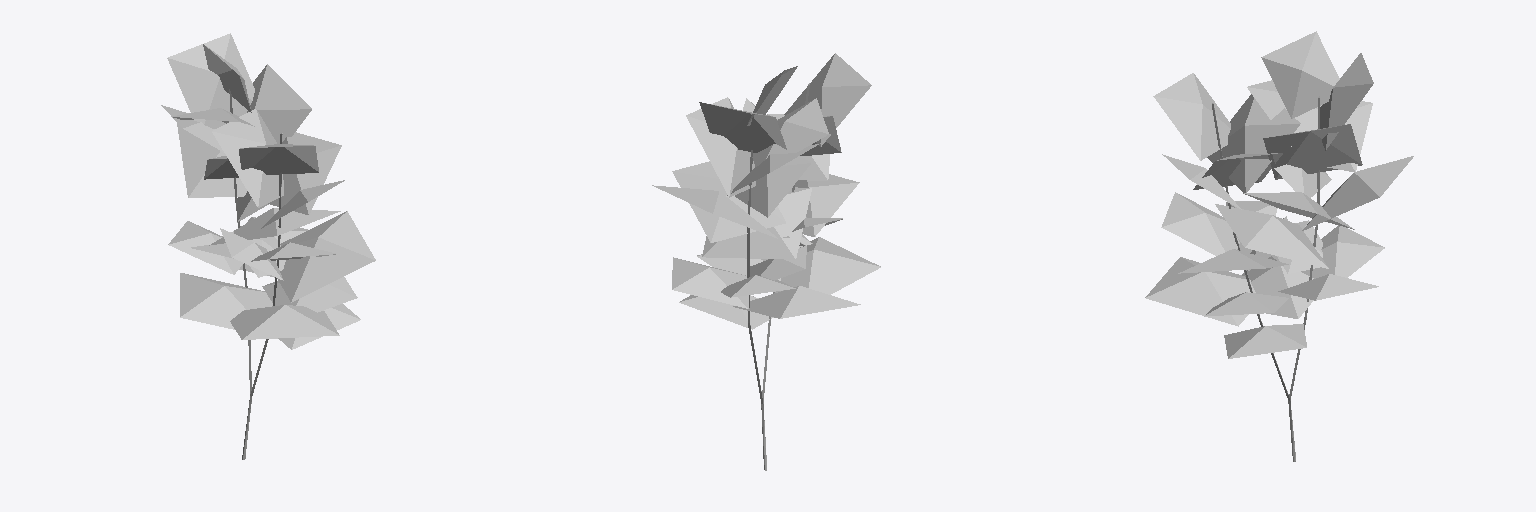
File: Jungle1.obj
3 renders of one model, left to right at view 1: azimuth 30°, elevation 25°; view 2: azimuth 150°, elevation 25°; view 3: azimuth 270°, elevation 25°, orthographic.
Visible parts, largest first — view 1: tree; view 2: tree; view 3: tree.
Part boxes in pixels (bbox=[...]): tree: bbox=[161, 33, 375, 459]; tree: bbox=[652, 53, 880, 470]; tree: bbox=[1145, 31, 1413, 461].
Size of the model in its own units: 67.78 by 158 by 93.42.